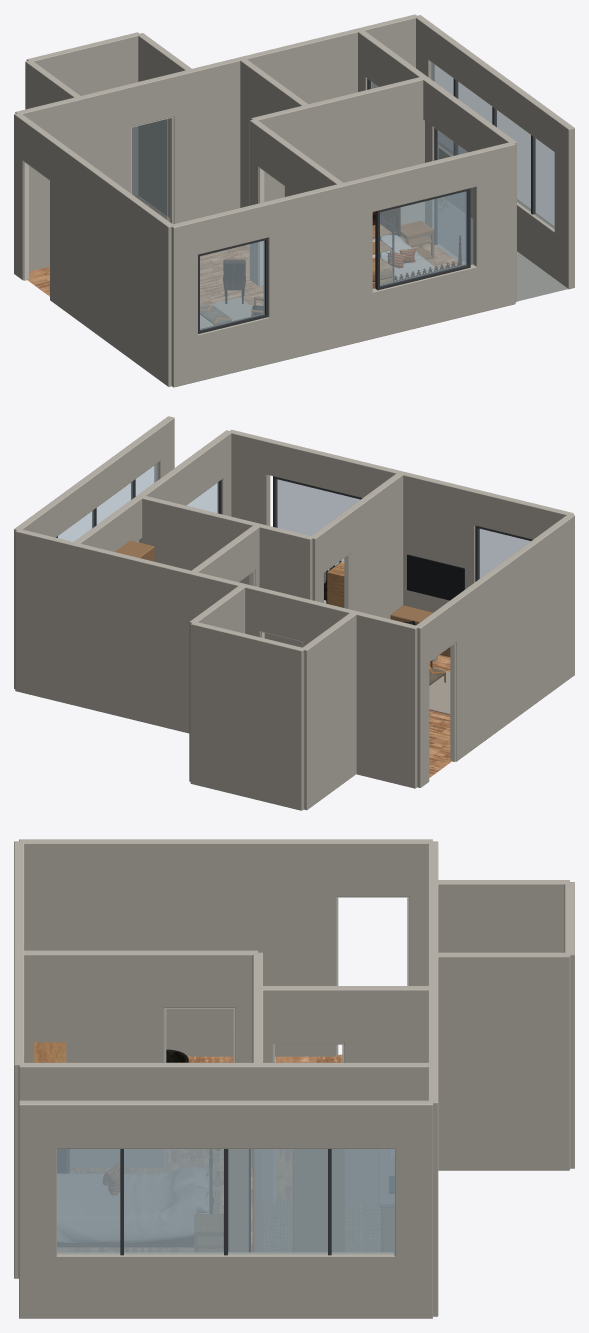
The picture shows the model from 3 angles, top to bottom: view 1: azimuth 30°, elevation 25°; view 2: azimuth 150°, elevation 25°; view 3: azimuth 270°, elevation 25°; orthographic projection. The views are drawn at different scales.
Visible parts, largest first — view 1: MAIN_WALLS, CUTAWAY_WALLS, BedroomWindowGlass, LivingWindowGlass, BalconyGlass, ShowerGlass, BalconyFloor, LivingFloor, BalDoorGlass1, GothicBed_01, side_table_01, dining_chair_02 (+4 smaller); view 2: CUTAWAY_WALLS, MAIN_WALLS, BedroomWindowGlass, TVScreen, BalconyGlass, LivingFloor, LivingWindowGlass, LivingRug, drawer_cabinet, EntryDoorL, TVConsole, BalDoorGlass1 (+1 smaller); view 3: MAIN_WALLS, CUTAWAY_WALLS, BalconyGlass, BalDoorGlass1, BalDoorGlass2, GothicBed_01, TallCabinet, KitchenFloor, LivingFloor, BedroomFloor, side_table_01, drawer_cabinet (+1 smaller).
Part boxes in pixels (<box>): MAIN_WALLS: <box>14,15,574,387</box>; CUTAWAY_WALLS: <box>15,14,416,271</box>; BedroomWindowGlass: <box>380,191,467,286</box>; LivingWindowGlass: <box>200,240,264,329</box>; BalconyGlass: <box>431,62,554,229</box>; ShowerGlass: <box>132,119,168,220</box>; BalconyFloor: <box>436,197,567,301</box>; LivingFloor: <box>27,244,263,306</box>; BalDoorGlass1: <box>437,130,473,264</box>; GothicBed_01: <box>372,207,461,280</box>; side_table_01: <box>401,220,433,259</box>; dining_chair_02: <box>223,260,245,303</box>; CUTAWAY_WALLS: <box>15,529,417,810</box>; MAIN_WALLS: <box>14,416,574,787</box>; BedroomWindowGlass: <box>276,479,359,565</box>; TVScreen: <box>407,554,464,600</box>; BalconyGlass: <box>58,463,157,541</box>; LivingFloor: <box>429,654,452,777</box>; LivingWindowGlass: <box>478,528,530,578</box>; LivingRug: <box>429,666,450,714</box>; drawer_cabinet: <box>326,560,344,607</box>; EntryDoorL: <box>450,643,455,761</box>; TVConsole: <box>390,605,450,656</box>; BalDoorGlass1: <box>186,482,218,513</box>; MAIN_WALLS: <box>14,839,432,1318</box>; CUTAWAY_WALLS: <box>428,841,574,1316</box>; BalconyGlass: <box>57,1149,394,1254</box>; BalDoorGlass1: <box>57,1149,222,1251</box>; BalDoorGlass2: <box>263,1149,394,1251</box>; GothicBed_01: <box>57,1149,213,1246</box>; TallCabinet: <box>293,1149,344,1251</box>; KitchenFloor: <box>263,1202,380,1251</box>; LivingFloor: <box>167,1054,342,1200</box>; BedroomFloor: <box>57,1166,252,1251</box>; side_table_01: <box>195,1214,223,1251</box>; drawer_cabinet: <box>33,1042,68,1172</box>.
Bounding box in the file's own units: 7.45 × 2.8 × 6.64.
24 materials, 14 textured.
